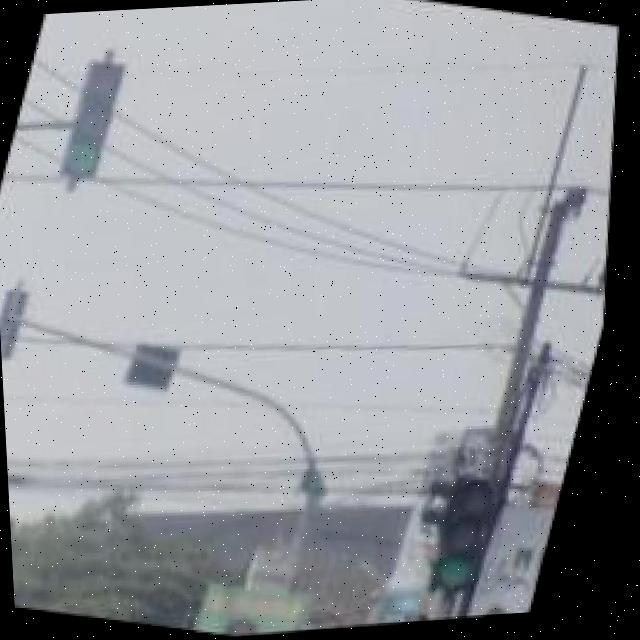green_light: (435, 469, 524, 603), (52, 54, 134, 182)
